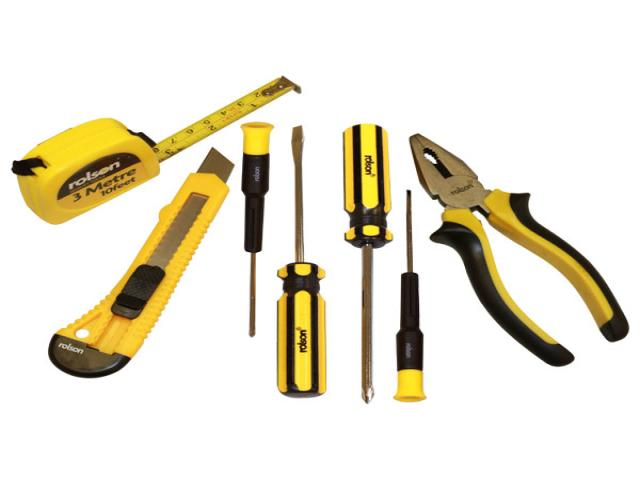Pliers: (410, 134, 629, 366)
Screwdriver: (344, 124, 392, 403), (278, 127, 326, 397), (241, 122, 274, 336)
Tape measure: (11, 77, 300, 224)
Utility knife: (49, 148, 234, 377)
